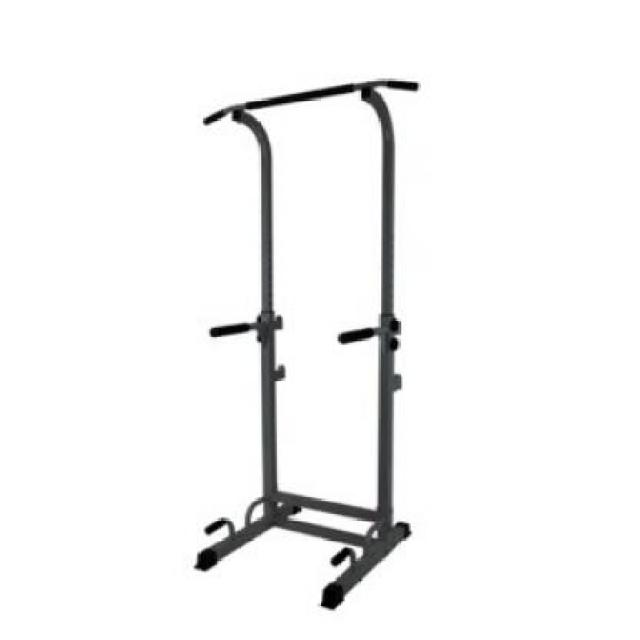chinning dipping: (197, 77, 421, 611)
